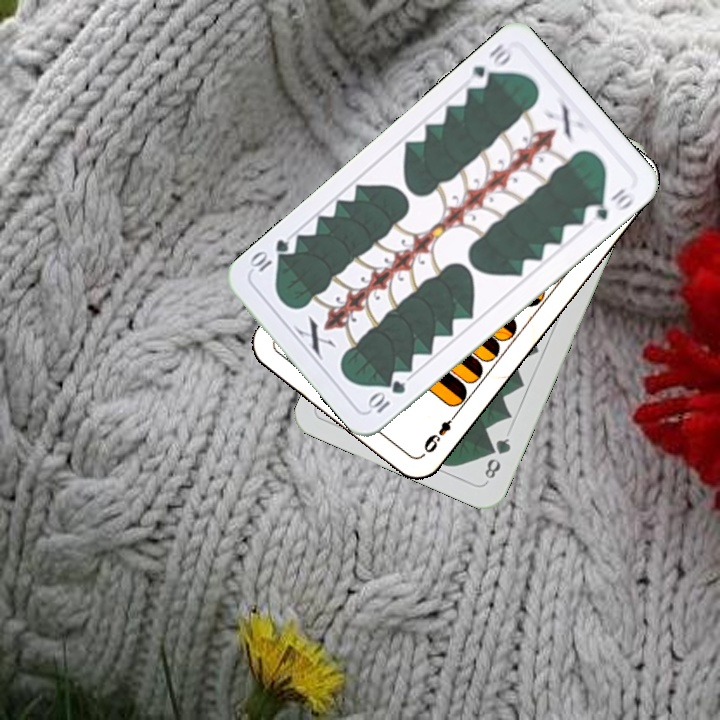E9: (419, 408, 461, 456)
G10: (463, 39, 514, 92), (364, 376, 409, 416)
G8: (480, 434, 514, 485)
